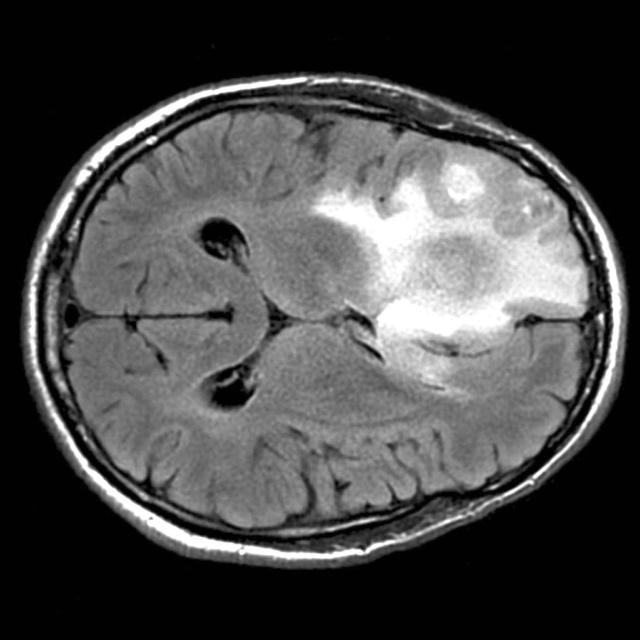tumor: (312, 145, 587, 354)
